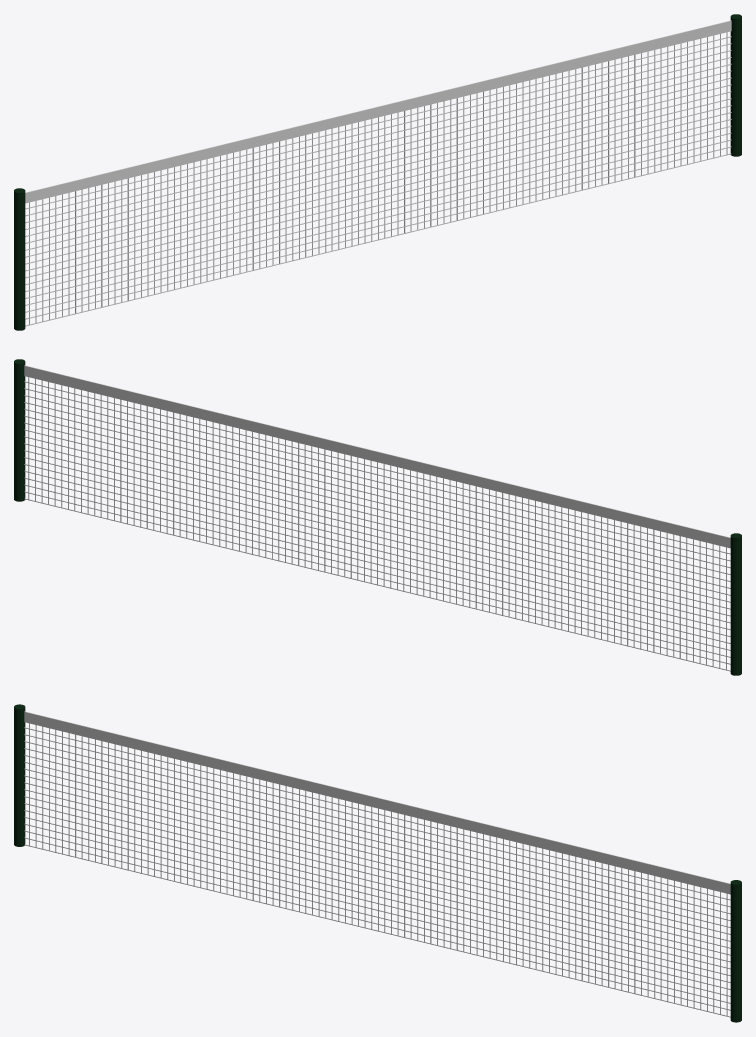
File: TennisNet.fbx
3 views of the same model, one above another, from view 1: azimuth 30°, elevation 25°; view 2: azimuth 150°, elevation 25°; view 3: azimuth 330°, elevation 25° (orthographic).
Parts seen in each view (by area): view 1: Cube, Cube.001, Cube.003, Cylinder, Cylinder.001; view 2: Cube, Cube.001, Cube.003, Cylinder, Cylinder.001; view 3: Cube, Cube.001, Cube.003, Cylinder.001, Cylinder.
Part boxes in pixels (<box>): Cube: <box>29,32,727,324</box>; Cube.001: <box>25,36,731,326</box>; Cube.003: <box>25,20,731,203</box>; Cylinder: <box>14,188,25,330</box>; Cylinder.001: <box>730,14,741,156</box>; Cube: <box>28,377,726,669</box>; Cube.001: <box>24,381,730,671</box>; Cube.003: <box>24,365,730,548</box>; Cylinder: <box>730,533,741,675</box>; Cylinder.001: <box>14,359,25,501</box>; Cube: <box>29,723,727,1015</box>; Cube.001: <box>24,727,730,1017</box>; Cube.003: <box>24,711,730,894</box>; Cylinder.001: <box>730,880,741,1022</box>; Cylinder: <box>14,704,25,846</box>.
Bounding box in the file's own units: 2208 × 402 × 30.
